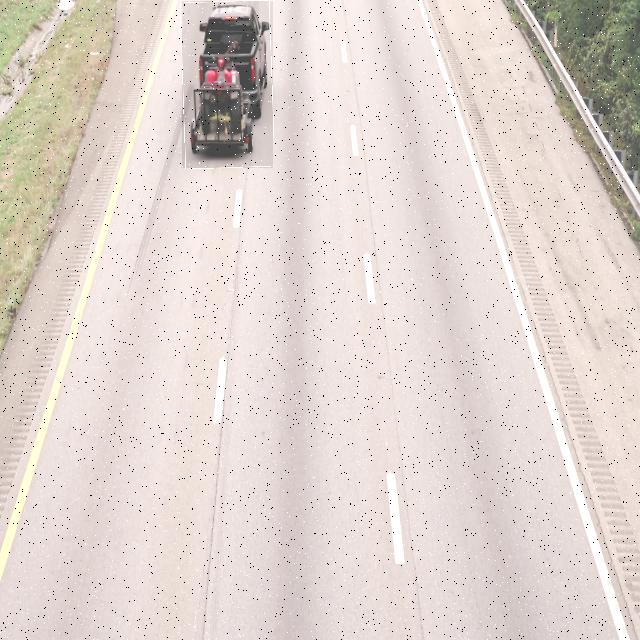Truck: (182, 1, 273, 168)
